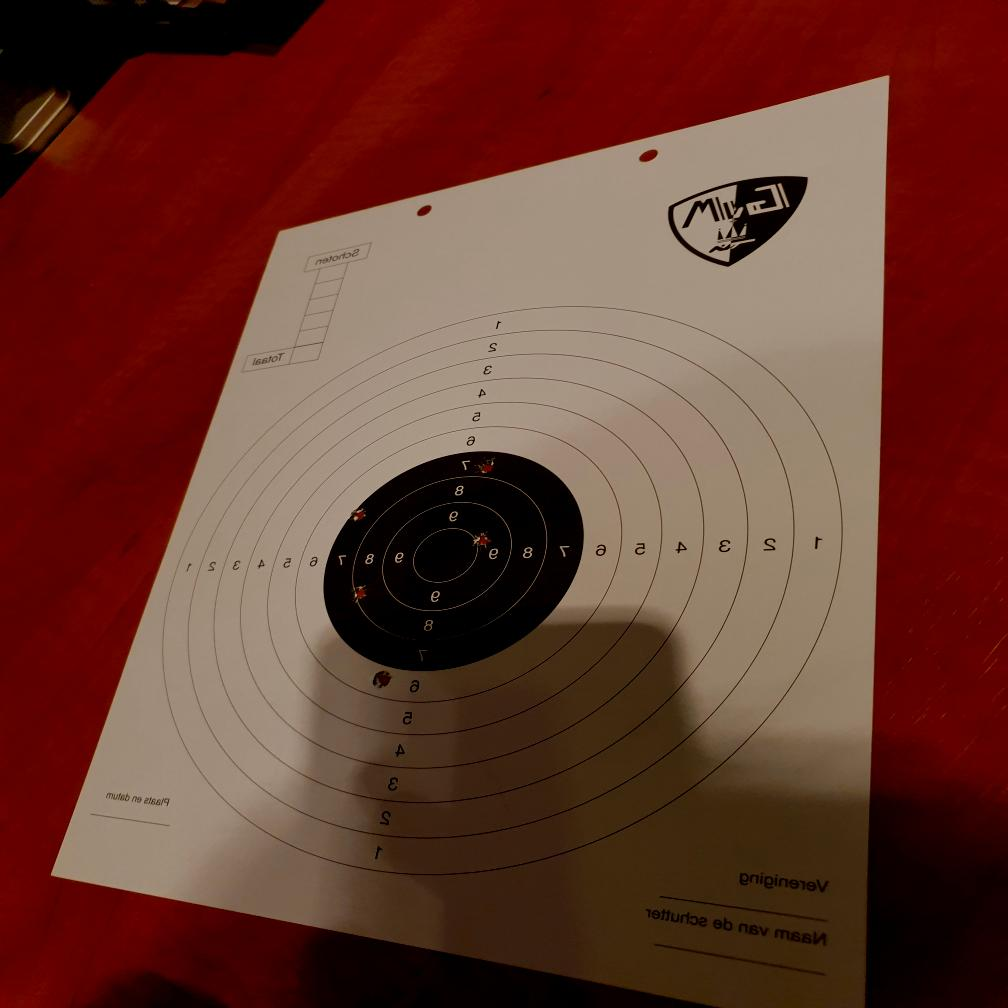10: (472, 529, 496, 548)
6: (370, 669, 392, 690)
7: (474, 457, 500, 476), (349, 507, 368, 522)
8: (349, 584, 373, 602)
Target: (150, 305, 846, 877)
black_contour: (322, 450, 582, 672)
